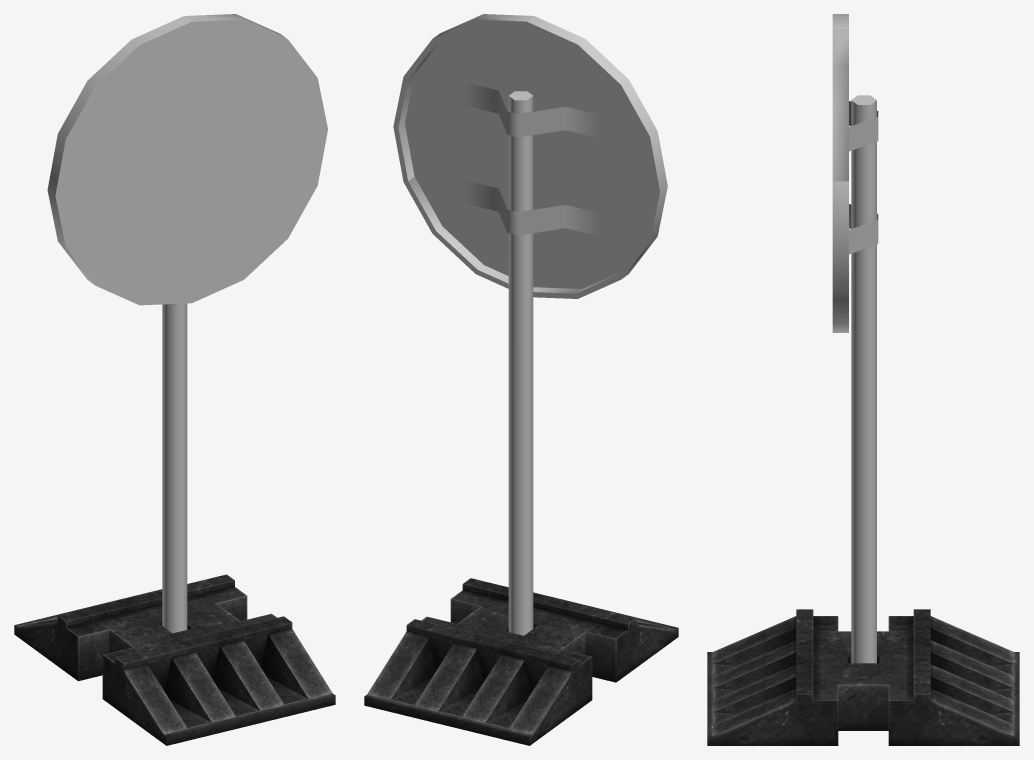
The model's file is ProhibitionTemporary_NoTurningRight.fbx.
The picture shows the model from 3 angles, left to right: view 1: azimuth 30°, elevation 25°; view 2: azimuth 150°, elevation 25°; view 3: azimuth 270°, elevation 25°; orthographic projection. The views are drawn at different scales.
Visible parts, largest first — view 1: ProhibitionTemporary_NoTurningRight_LOD0; view 2: ProhibitionTemporary_NoTurningRight_LOD0; view 3: ProhibitionTemporary_NoTurningRight_LOD0.
Part boxes in pixels (<box>): ProhibitionTemporary_NoTurningRight_LOD0: <box>14,14,335,745</box>; ProhibitionTemporary_NoTurningRight_LOD0: <box>364,14,678,745</box>; ProhibitionTemporary_NoTurningRight_LOD0: <box>707,14,1019,745</box>.
Size of what is drawn, in the model's own units: 0.7096 by 1.64 by 0.6866.
